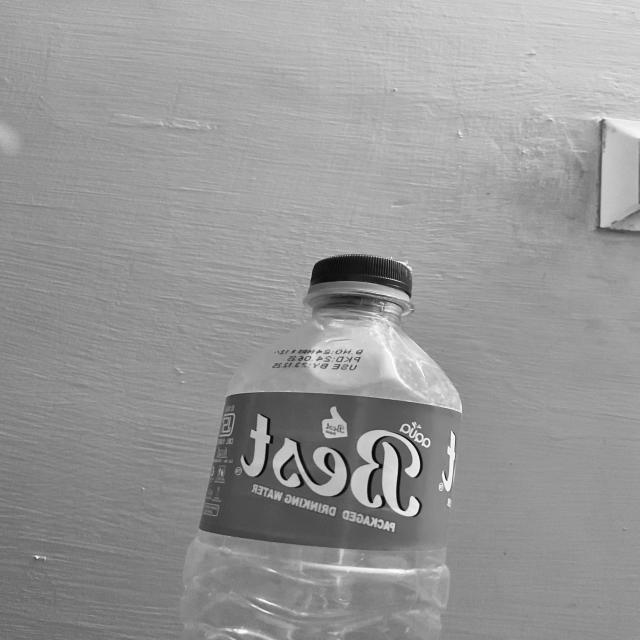Good-cap-Df0S: (302, 254, 420, 310)
